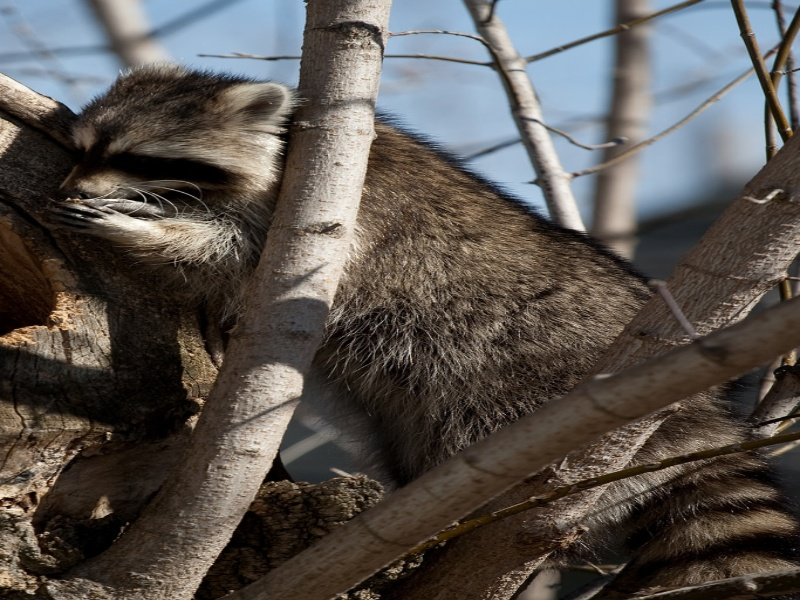raccoon: (58, 65, 788, 588)
